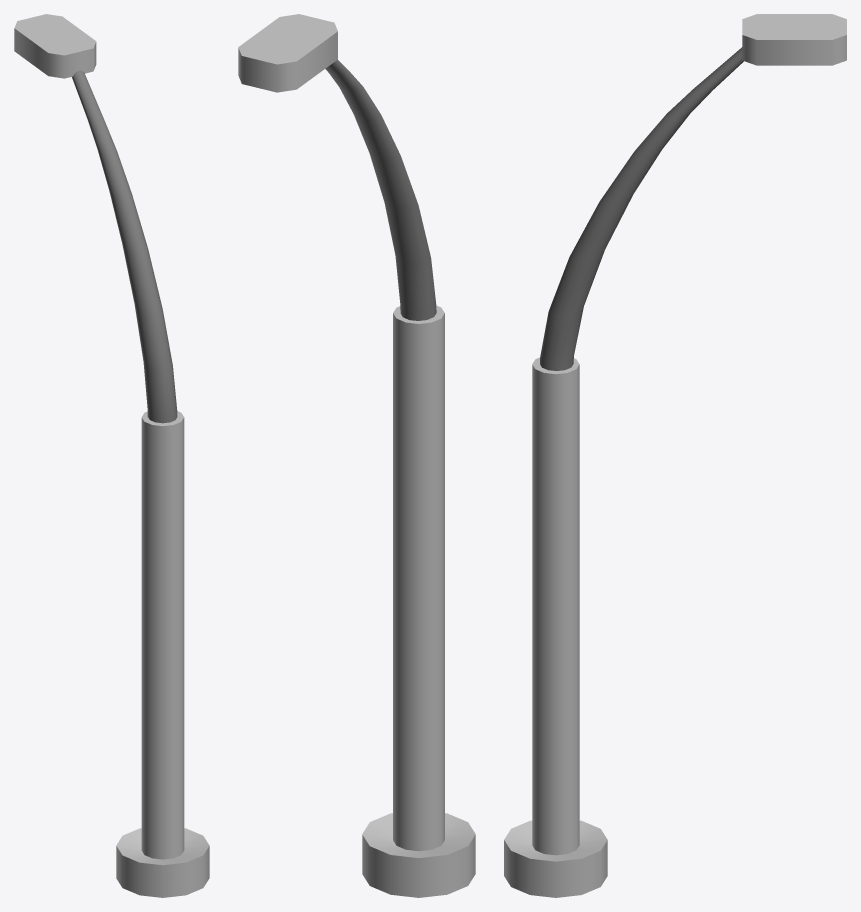
File: Street lamp.fbx
The picture shows the model from 3 angles, left to right: view 1: azimuth 30°, elevation 25°; view 2: azimuth 150°, elevation 25°; view 3: azimuth 270°, elevation 25°; orthographic projection. The views are drawn at different scales.
Visible parts, largest first — view 1: Street lamp; view 2: Street lamp; view 3: Street lamp.
Boxes of the visible parts, x1,y1,x2,y2 form: Street lamp: [14, 14, 209, 897]; Street lamp: [238, 14, 475, 897]; Street lamp: [504, 14, 846, 897].
Bounding box in the file's own units: 246 × 2228 × 815.
